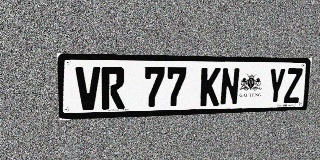7: (143, 67, 165, 108), (165, 67, 187, 107)
K: (200, 67, 221, 106)
N: (219, 68, 240, 106)
R: (101, 67, 125, 110)
V: (75, 66, 101, 110)
Y: (266, 68, 286, 104)
Z: (283, 68, 303, 103)
